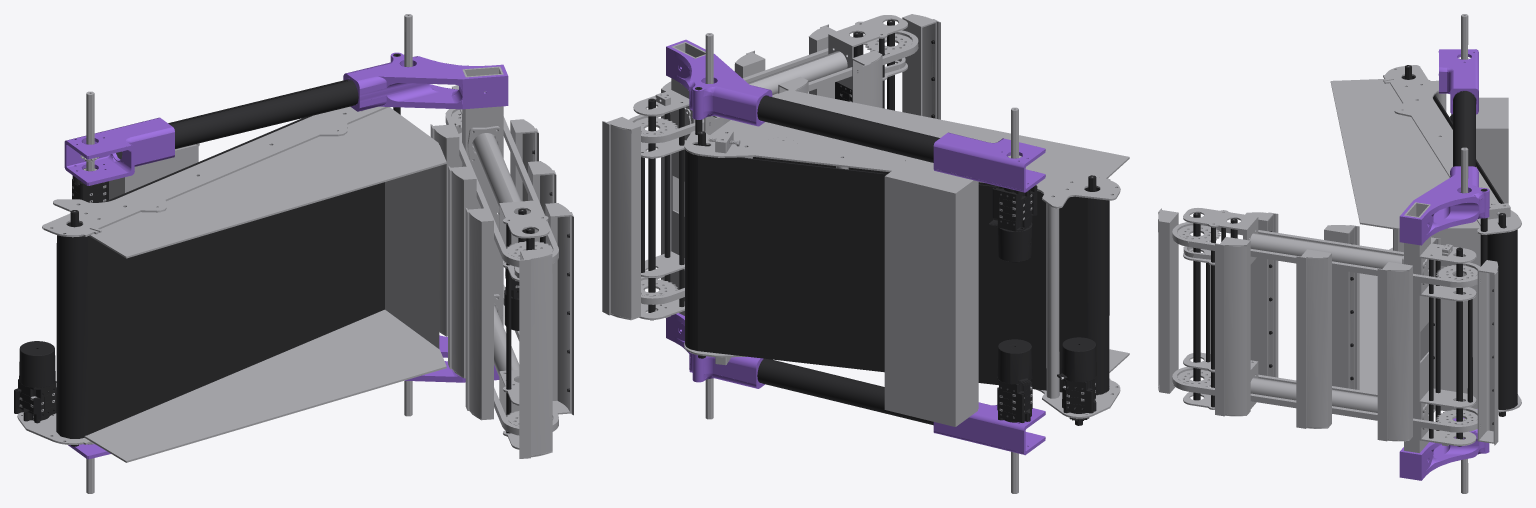
The model's file is body.obj.
The picture shows the model from 3 angles, left to right: view 1: azimuth 30°, elevation 25°; view 2: azimuth 150°, elevation 25°; view 3: azimuth 270°, elevation 25°; orthographic projection. The views are drawn at different scales.
Parts seen in each view (by area): view 1: body; view 2: body; view 3: body.
Boxes of the visible parts, box(x1,y1,x2,y2) form: body: box(14, 14, 573, 493); body: box(602, 14, 1129, 493); body: box(1158, 14, 1521, 493).
Size of the model in its own units: 0.937 by 0.7236 by 0.6943.
